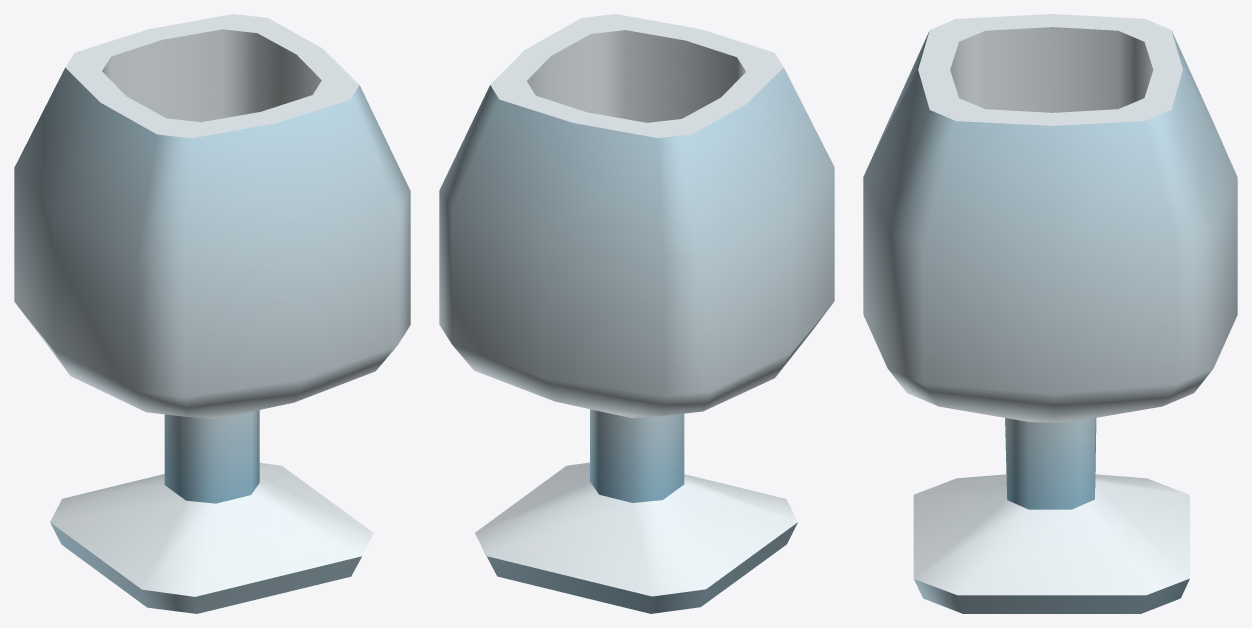
File: glass_wine_full.fbx
The picture shows the model from 3 angles, left to right: view 1: azimuth 30°, elevation 25°; view 2: azimuth 150°, elevation 25°; view 3: azimuth 270°, elevation 25°; orthographic projection. The views are drawn at different scales.
Parts seen in each view (by area): view 1: glass_wine_full; view 2: glass_wine_full; view 3: glass_wine_full.
Boxes of the visible parts, x1,y1,x2,y2 form: glass_wine_full: (14, 14, 410, 613); glass_wine_full: (439, 14, 834, 613); glass_wine_full: (863, 14, 1237, 613).
Size of the model in its own units: 24.13 by 34.9 by 24.16.
